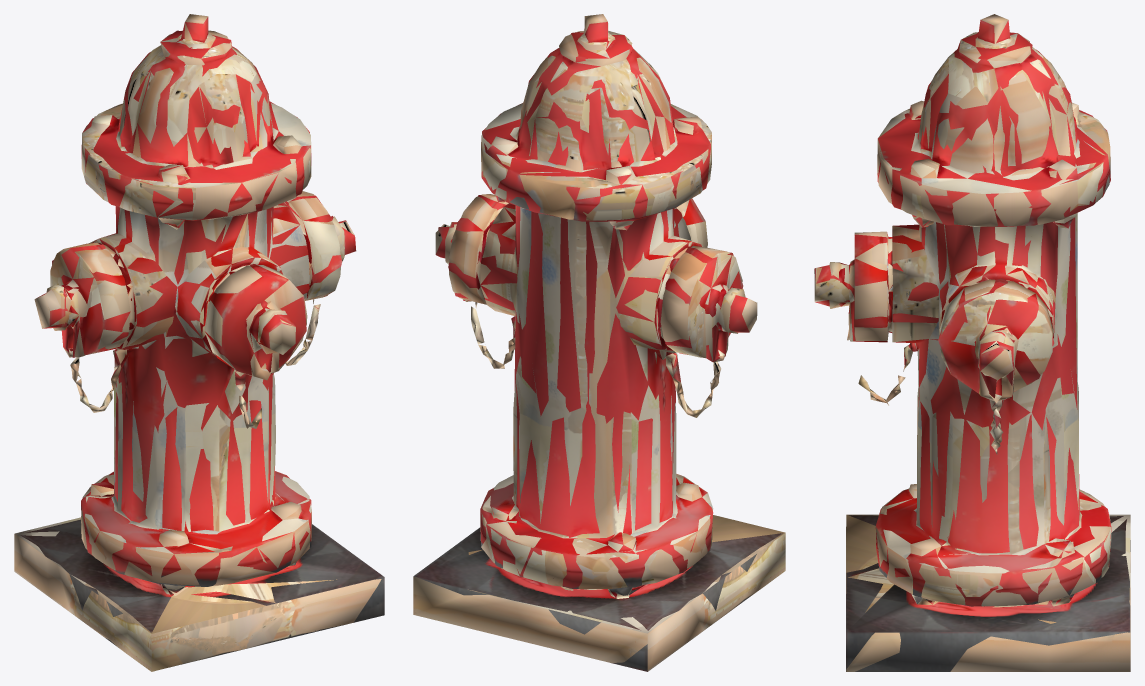
3 views of the same model, side by side, from view 1: azimuth 30°, elevation 25°; view 2: azimuth 150°, elevation 25°; view 3: azimuth 270°, elevation 25° (orthographic). The views are drawn at different scales.
Parts seen in each view (by area): view 1: Mesh_0, Mesh_0.001; view 2: Mesh_0, Mesh_0.001; view 3: Mesh_0, Mesh_0.001.
Part boxes in pixels (bbox=[...]): Mesh_0: bbox=[14, 14, 381, 671]; Mesh_0.001: bbox=[20, 17, 384, 666]; Mesh_0: bbox=[413, 14, 785, 671]; Mesh_0.001: bbox=[413, 22, 782, 671]; Mesh_0: bbox=[814, 14, 1130, 671]; Mesh_0.001: bbox=[814, 20, 1130, 671].
Size of the model in its own units: 107 by 191 by 92.31.
